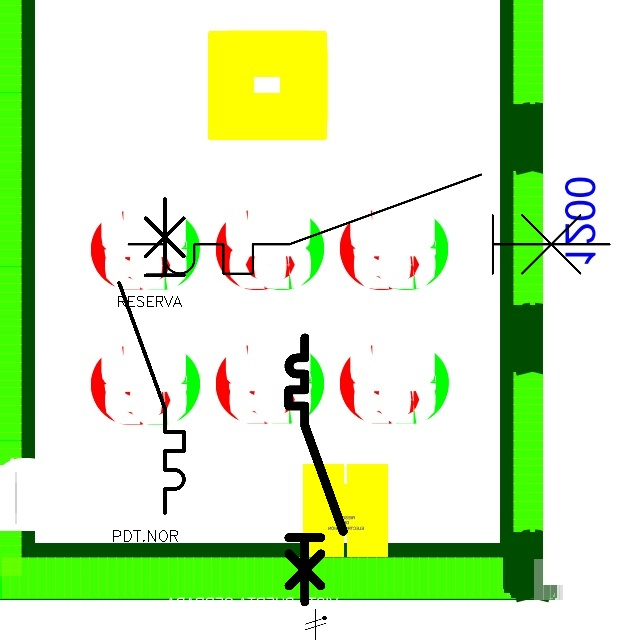interruptor_termomagnetico: (116, 162, 622, 286), (111, 191, 192, 521), (282, 331, 350, 609)
